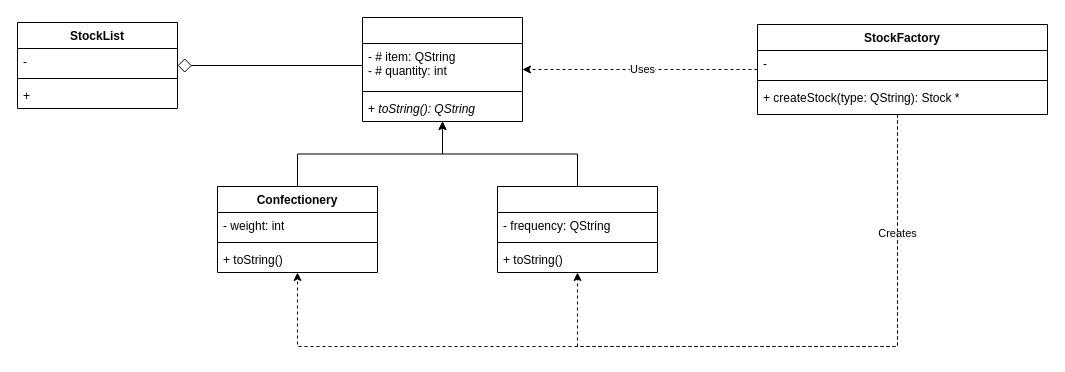
Image size: 1065x372. Some labels were removed from this diagram. Here are the shapes that lost their labels. From the top down, the box of each, then its label:
(362, 16, 522, 122): Stock
(496, 186, 658, 272): ReadingMaterial
